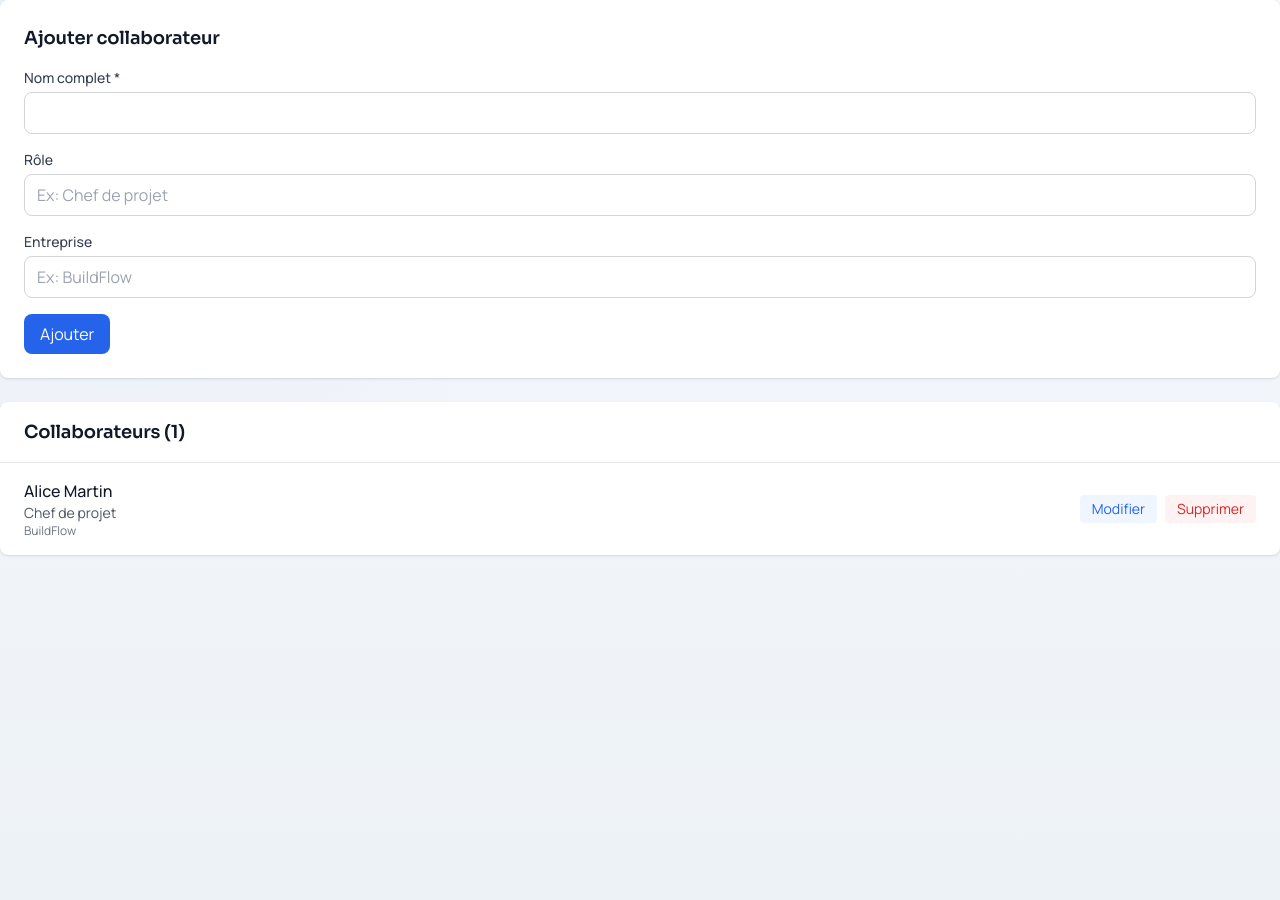
WorkerList › supprime un collaborateur et journalise la suppression
Click the button "Supprimer" at (1211, 509), box x1=1165 y1=495 x2=1256 y2=523
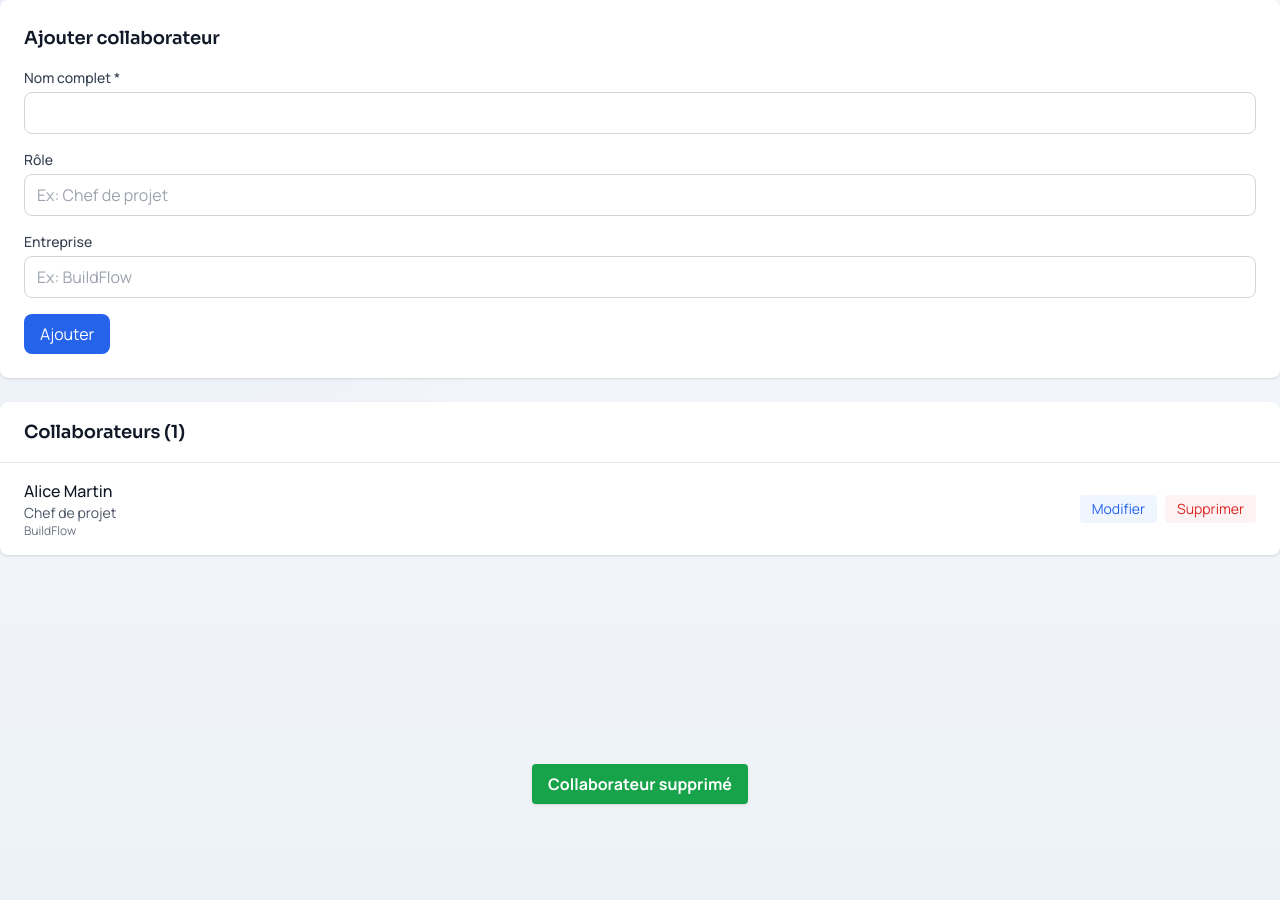
Check: the text "Collaborateur supprimé" is shown, box x1=532 y1=764 x2=748 y2=804
